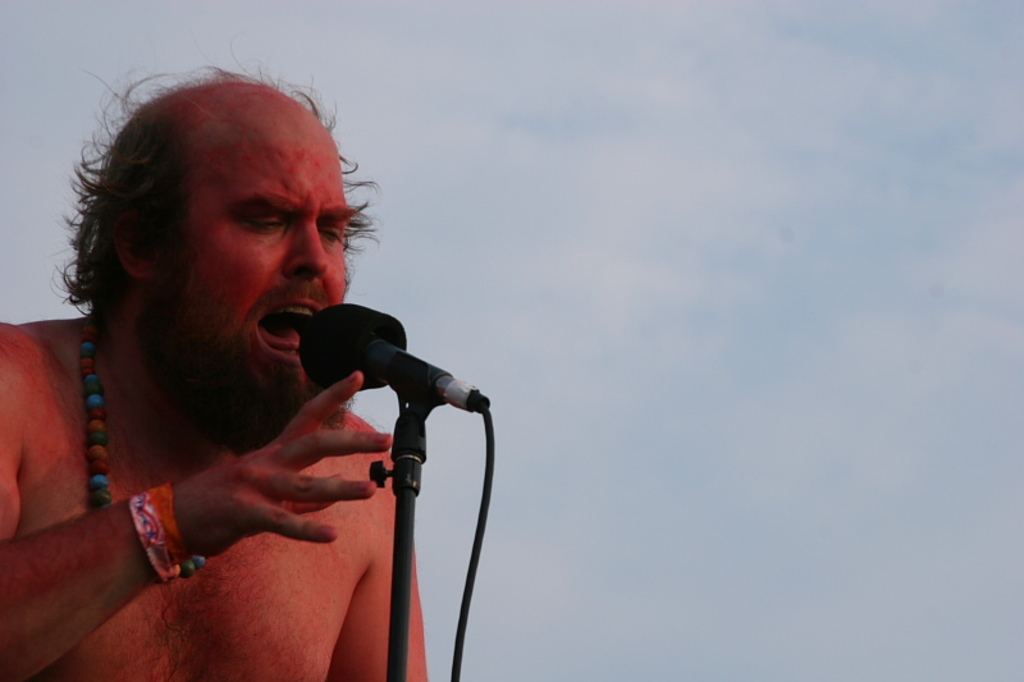Human_hand: (143, 386, 375, 572)
